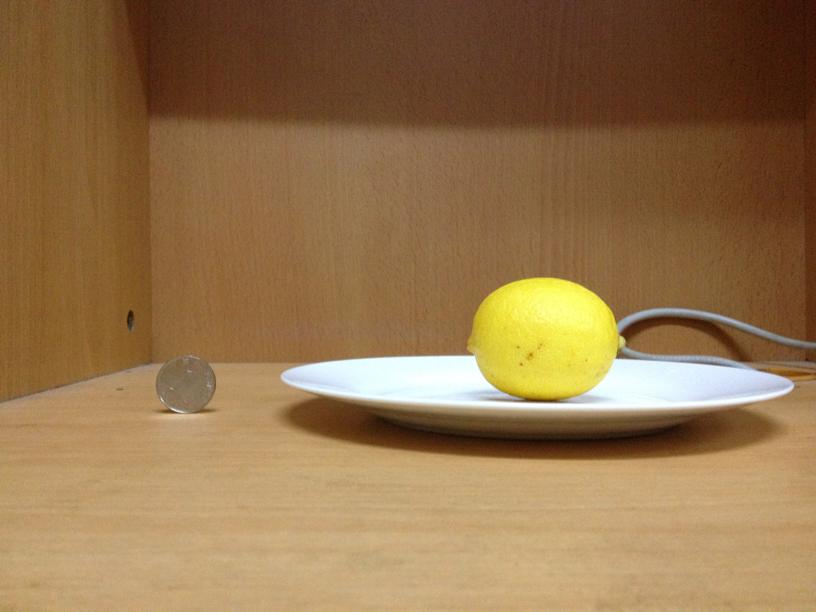coin: (156, 355, 219, 414)
lemon: (469, 277, 617, 400)
